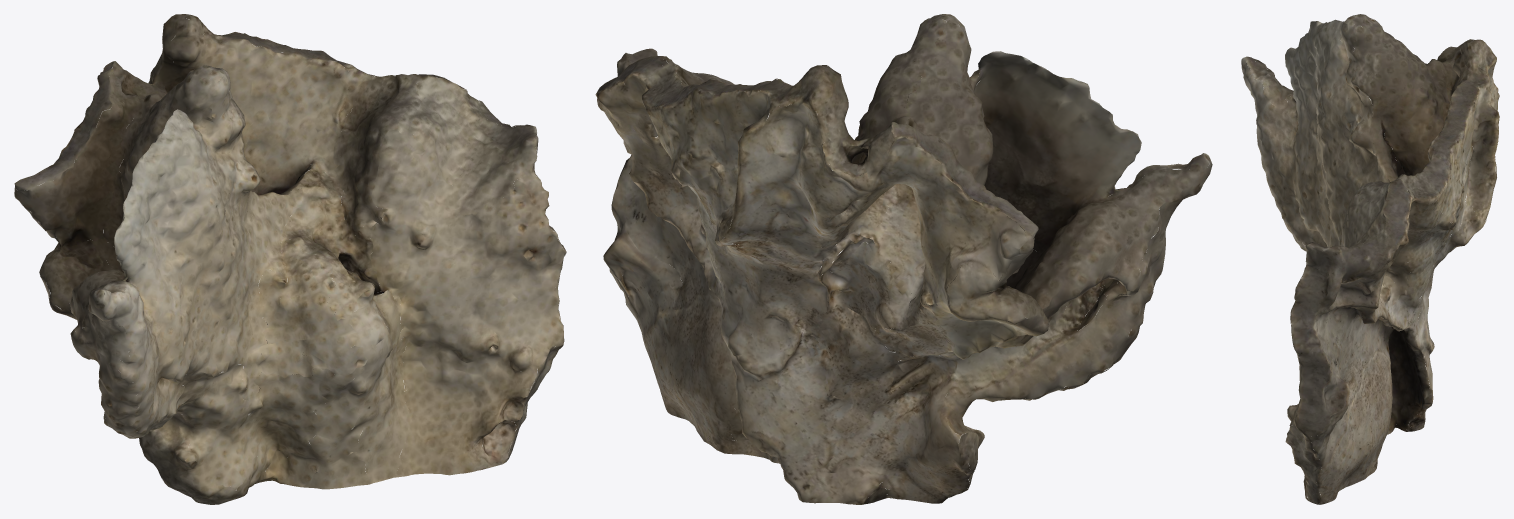
Rendered from plate.glb.
3 renders of one model, left to right at view 1: azimuth 30°, elevation 25°; view 2: azimuth 150°, elevation 25°; view 3: azimuth 270°, elevation 25°, orthographic. The views are drawn at different scales.
Parts seen in each view (by area): view 1: Smithsonian scan — plate; view 2: Smithsonian scan — plate; view 3: Smithsonian scan — plate.
Part boxes in pixels (x1,y1,x2,y2): Smithsonian scan — plate: (14,14,566,504); Smithsonian scan — plate: (595,14,1212,504); Smithsonian scan — plate: (1241,14,1499,504).
Bounding box in the file's own units: 0.9998 × 0.8344 × 0.5224.
Materials: 1 (1 with a texture image).
